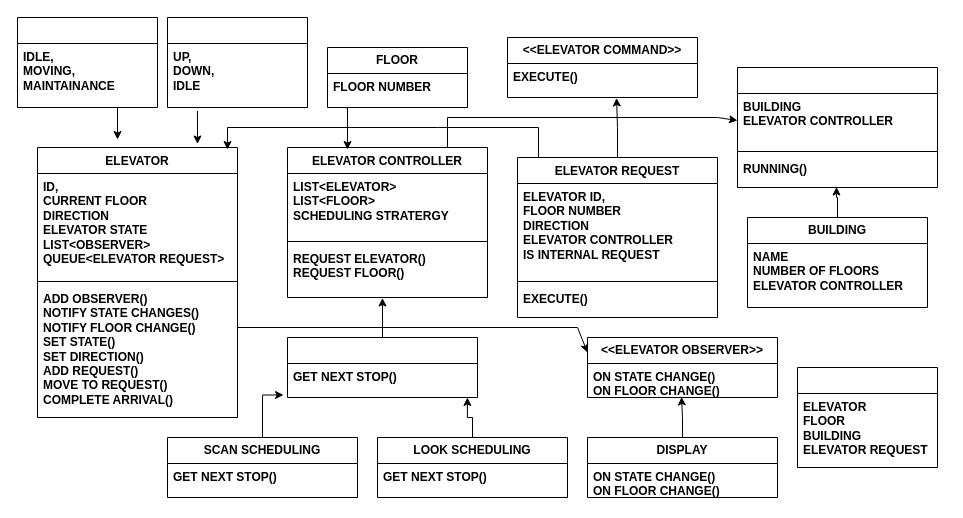
The diagram is 963 pixels wide and 518 high, and some of its shapes have lost their labels. Each missing label, with the box of its shape:
<<SCHEDULING STRATEGY>>: (286, 336, 478, 398)
CLIENT: (736, 66, 938, 188)
DIRECTION: (166, 16, 308, 108)
ELEVATOR STATE: (16, 16, 158, 108)
OBJECTS: (796, 366, 938, 468)
